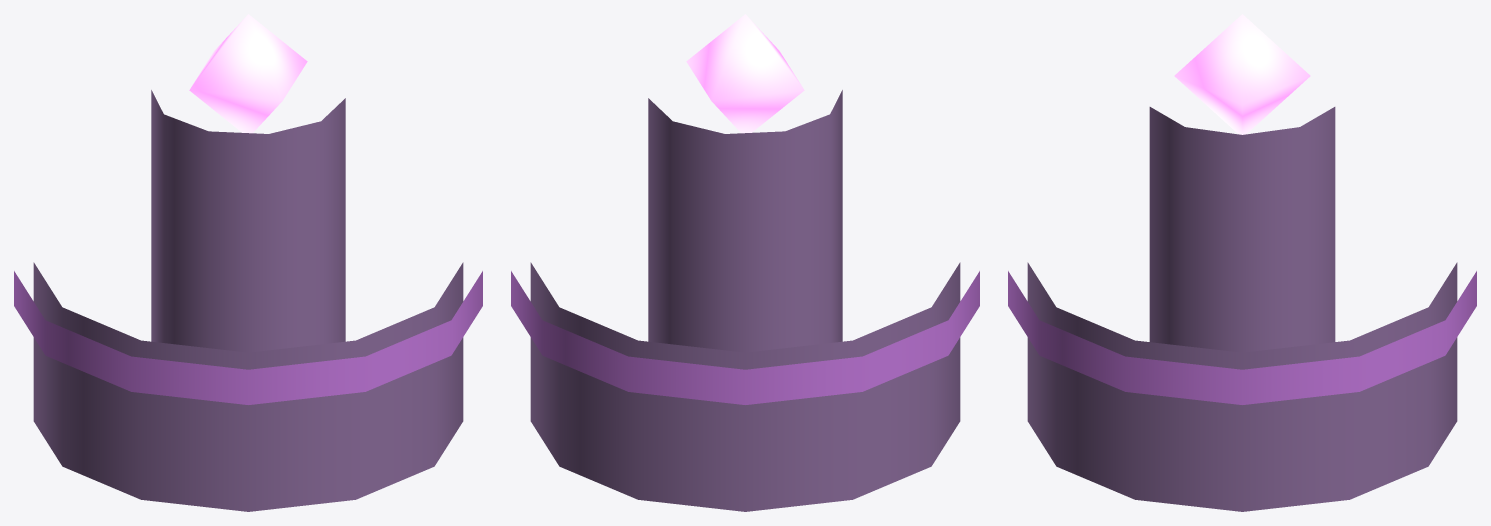
The model's file is embolo_titanio.glb.
3 renders of one model, left to right at view 1: azimuth 30°, elevation 25°; view 2: azimuth 150°, elevation 25°; view 3: azimuth 270°, elevation 25°, orthographic.
Parts seen in each view (by area): view 1: Base, Accent, Glow; view 2: Base, Accent, Glow; view 3: Base, Accent, Glow.
Boxes of the visible parts, left/top/right/bottom form: Base: left=33, top=90, right=463, bottom=511; Accent: left=14, top=271, right=482, bottom=404; Glow: left=189, top=14, right=307, bottom=133; Base: left=530, top=90, right=960, bottom=511; Accent: left=511, top=271, right=979, bottom=404; Glow: left=686, top=14, right=804, bottom=133; Base: left=1027, top=107, right=1457, bottom=511; Accent: left=1008, top=271, right=1476, bottom=404; Glow: left=1174, top=14, right=1310, bottom=134.
Bounding box in the file's own units: 0.48 × 0.46 × 0.48.
